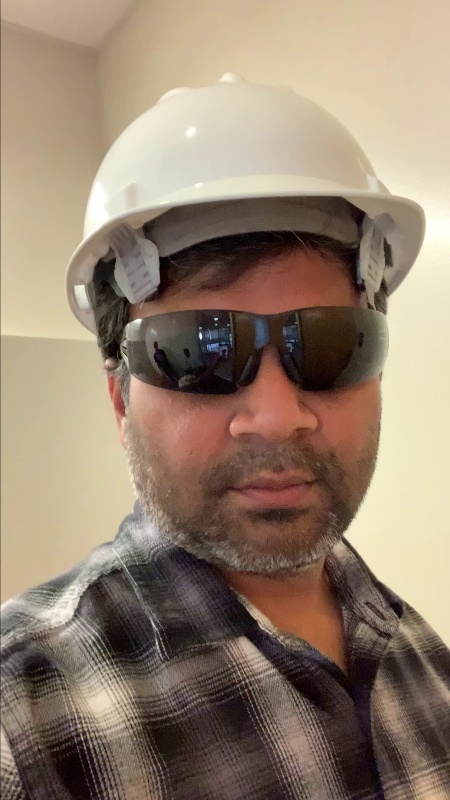glasses: (116, 306, 392, 392)
helmet: (66, 71, 428, 221)
